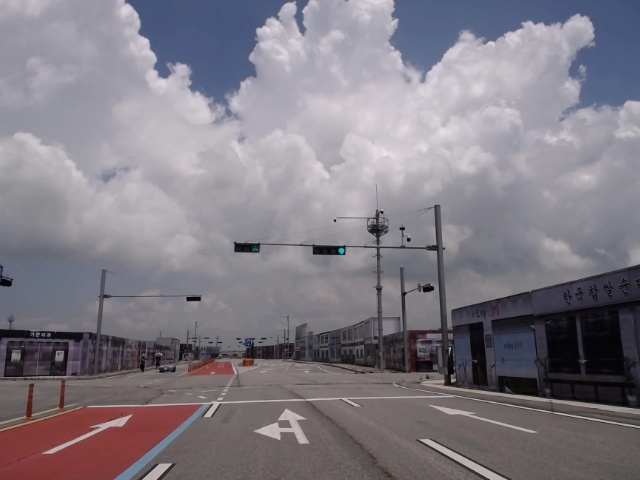straight_green_4: (313, 245, 345, 256)
